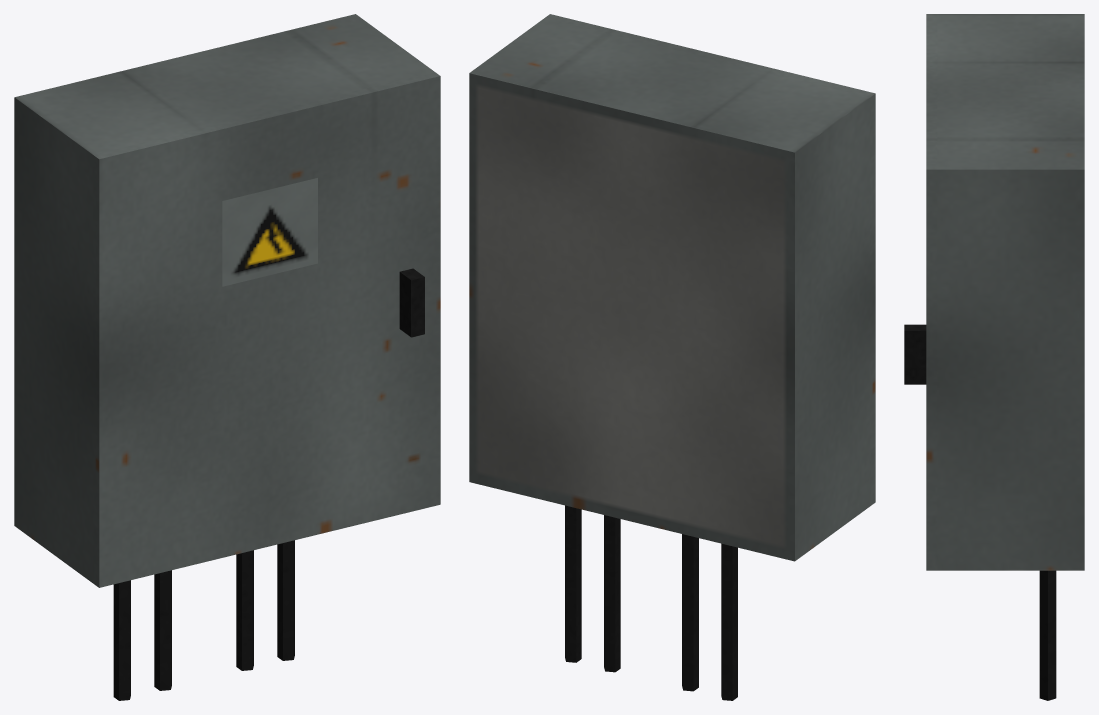
Rendered from Electric_Panel.fbx.
3 renders of one model, left to right at view 1: azimuth 30°, elevation 25°; view 2: azimuth 150°, elevation 25°; view 3: azimuth 270°, elevation 25°, orthographic. The views are drawn at different scales.
Parts seen in each view (by area): view 1: дверца щитка, щиток с рубильником; view 2: щиток с рубильником, дверца щитка; view 3: щиток с рубильником, дверца щитка.
Boxes of the visible parts, x1,y1,x2,y2 form: дверца щитка: (93,71,440,587); щиток с рубильником: (14,14,433,700); щиток с рубильником: (469,18,869,700); дверца щитка: (545,14,875,506); щиток с рубильником: (937,14,1084,700); дверца щитка: (904,14,937,570).
Bounding box in the file's own units: 0.5 × 0.85 × 0.245.
Materials: 3 (3 with a texture image).
